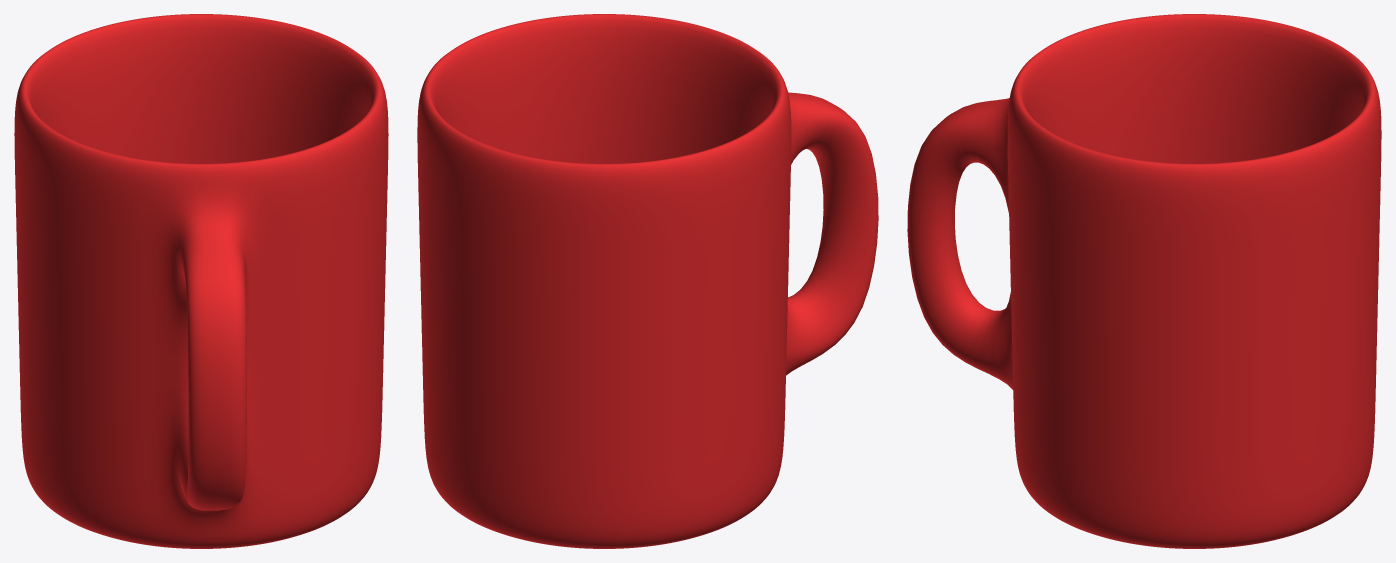
The model's file is taza 1.fbx.
The picture shows the model from 3 angles, left to right: view 1: azimuth 30°, elevation 25°; view 2: azimuth 150°, elevation 25°; view 3: azimuth 270°, elevation 25°; orthographic projection.
Parts seen in each view (by area): view 1: Círculo.001; view 2: Círculo.001; view 3: Círculo.001.
Part boxes in pixels (left/top/right/bottom): Círculo.001: left=14, top=14, right=388, bottom=548; Círculo.001: left=417, top=14, right=878, bottom=548; Círculo.001: left=907, top=14, right=1381, bottom=548.
Bounding box in the file's own units: 56.18 × 65.34 × 71.21.
